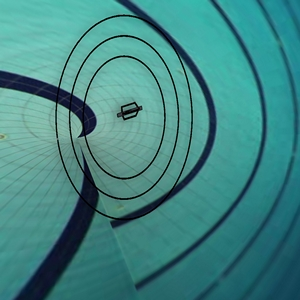circle: (26, 4, 228, 229)
submarine: (111, 97, 148, 125)
